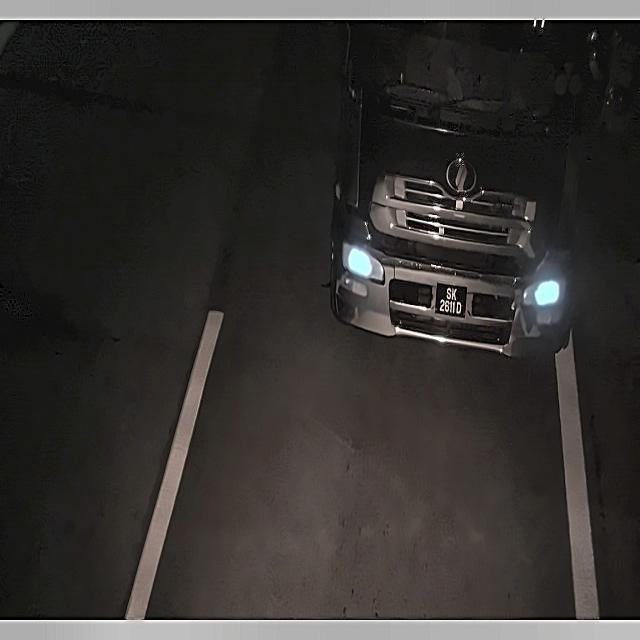car: (434, 273, 472, 330)
